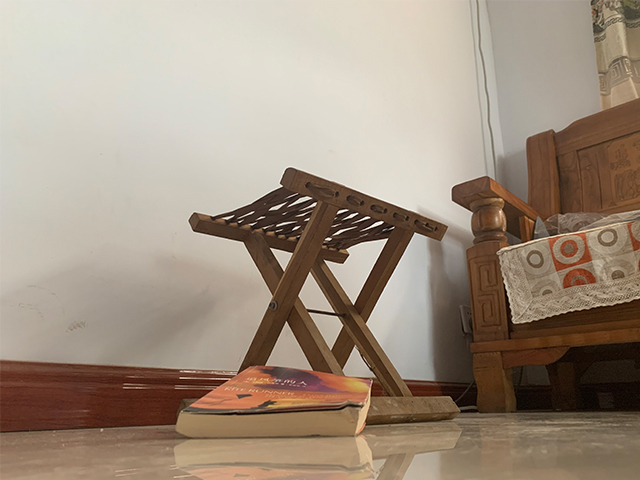book: (172, 364, 375, 439)
sofa: (449, 97, 640, 416)
stool: (171, 166, 462, 427)
wire: (453, 319, 524, 412)
